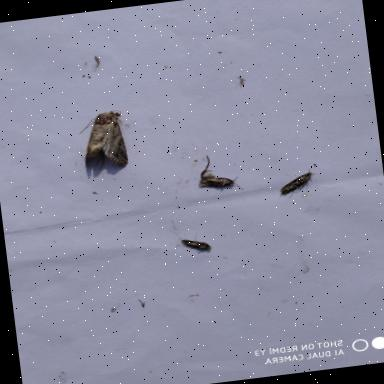pbw: (187, 149, 249, 198), (273, 164, 322, 201), (176, 232, 216, 257)
